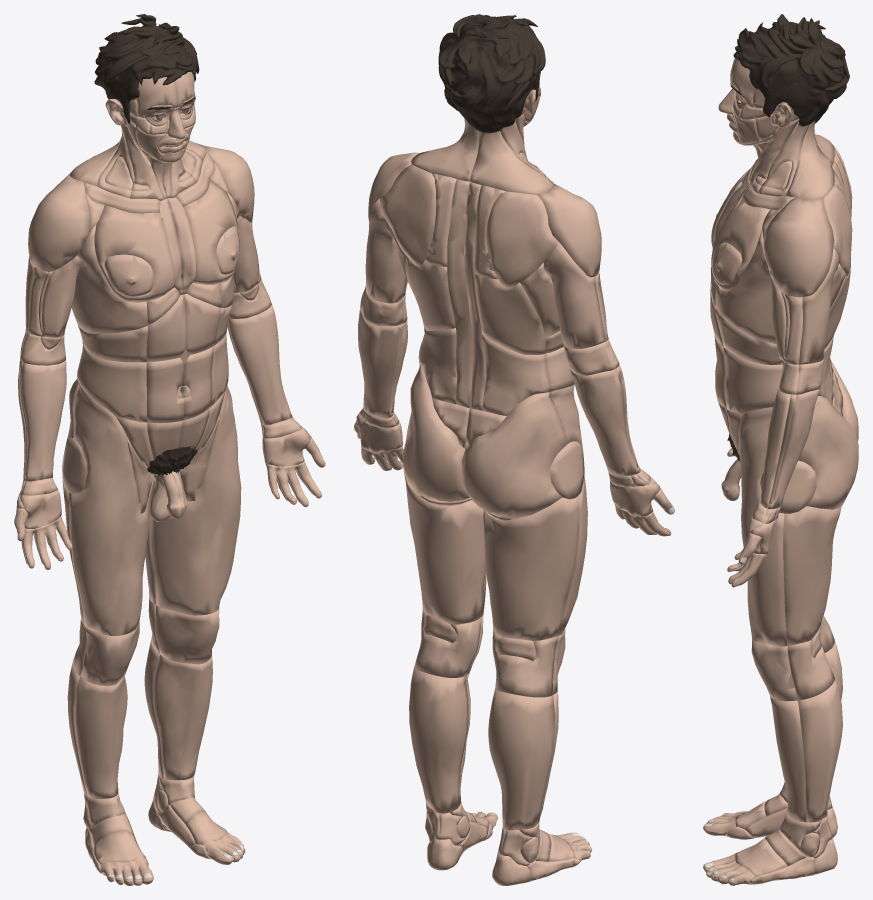
File: adult_male.surface.LOD0.glb
3 views of the same model, side by side, from view 1: azimuth 30°, elevation 25°; view 2: azimuth 150°, elevation 25°; view 3: azimuth 270°, elevation 25° (orthographic). The views are drawn at different scales.
Visible parts, largest first — view 1: ADULT.MALE.SURFACE.ANTERIOR_REGION_OF_THIGH.R, ADULT.MALE.SURFACE.ANTERIOR_REGION_OF_THIGH.L, ADULT.MALE.SURFACE.HAIRS_OF_HEAD, ADULT.MALE.SURFACE.ANTERIOR_REGION_OF_LEG.L, ADULT.MALE.SURFACE.ANTERIOR_REGION_OF_LEG.R, ADULT.MALE.SURFACE.PECTORAL_REGION.R, ADULT.MALE.SURFACE.DELTOID_REGION.R, ADULT.MALE.SURFACE.ANTERIOR_REGION_OF_FOREARM.L, ADULT.MALE.SURFACE.ANTERIOR_REGION_OF_FOREARM.R, ADULT.MALE.SURFACE.LATERAL_REGION_OF_THORAX.R, ADULT.MALE.SURFACE.LATERAL_REGION_OF_ABDOMEN.R, ADULT.MALE.SURFACE.PECTORAL_REGION.L (+46 smaller); view 2: ADULT.MALE.SURFACE.POSTERIOR_REGION_OF_THIGH.R, ADULT.MALE.SURFACE.HAIRS_OF_HEAD, ADULT.MALE.SURFACE.GLUTEAL_REGION.R, ADULT.MALE.SURFACE.POSTERIOR_REGION_OF_THIGH.L, ADULT.MALE.SURFACE.POSTERIOR_REGION_OF_LEG.R, ADULT.MALE.SURFACE.POSTERIOR_REGION_OF_LEG.L, ADULT.MALE.SURFACE.GLUTEAL_REGION.L, ADULT.MALE.SURFACE.SCAPULAR_REGION.R, ADULT.MALE.SURFACE.POSTERIOR_REGION_OF_ARM.R, ADULT.MALE.SURFACE.INFRASCAPULAR_REGION.R, ADULT.MALE.SURFACE.SCAPULAR_REGION.L, ADULT.MALE.SURFACE.POSTERIOR_REGION_OF_FOREARM.R (+32 smaller); view 3: ADULT.MALE.SURFACE.HAIRS_OF_HEAD, ADULT.MALE.SURFACE.ANTERIOR_REGION_OF_THIGH.L, ADULT.MALE.SURFACE.POSTERIOR_REGION_OF_THIGH.L, ADULT.MALE.SURFACE.DELTOID_REGION.L, ADULT.MALE.SURFACE.GLUTEAL_REGION.L, ADULT.MALE.SURFACE.POSTERIOR_REGION_OF_LEG.L, ADULT.MALE.SURFACE.LATERAL_REGION_OF_THORAX.L, ADULT.MALE.SURFACE.ANTERIOR_REGION_OF_LEG.L, ADULT.MALE.SURFACE.LATERAL_REGION_OF_ABDOMEN.L, ADULT.MALE.SURFACE.PECTORAL_REGION.L, ADULT.MALE.SURFACE.POSTERIOR_REGION_OF_ARM.L, ADULT.MALE.SURFACE.POSTERIOR_REGION_OF_NECK.L (+45 smaller).
Part boxes in pixels (box(x1,y1,x2,y2)): ADULT.MALE.SURFACE.ANTERIOR_REGION_OF_THIGH.R: box(69, 382, 154, 635); ADULT.MALE.SURFACE.ANTERIOR_REGION_OF_THIGH.L: box(150, 383, 241, 615); ADULT.MALE.SURFACE.HAIRS_OF_HEAD: box(94, 14, 199, 123); ADULT.MALE.SURFACE.ANTERIOR_REGION_OF_LEG.L: box(153, 654, 212, 780); ADULT.MALE.SURFACE.ANTERIOR_REGION_OF_LEG.R: box(74, 674, 127, 799); ADULT.MALE.SURFACE.PECTORAL_REGION.R: box(94, 205, 174, 302); ADULT.MALE.SURFACE.DELTOID_REGION.R: box(28, 174, 90, 271); ADULT.MALE.SURFACE.ANTERIOR_REGION_OF_FOREARM.L: box(228, 304, 292, 425); ADULT.MALE.SURFACE.ANTERIOR_REGION_OF_FOREARM.R: box(21, 360, 66, 481); ADULT.MALE.SURFACE.LATERAL_REGION_OF_THORAX.R: box(71, 224, 147, 333); ADULT.MALE.SURFACE.LATERAL_REGION_OF_ABDOMEN.R: box(77, 342, 147, 422); ADULT.MALE.SURFACE.PECTORAL_REGION.L: box(183, 179, 239, 284); ADULT.MALE.SURFACE.POSTERIOR_REGION_OF_THIGH.R: box(483, 496, 579, 640); ADULT.MALE.SURFACE.HAIRS_OF_HEAD: box(438, 14, 545, 133); ADULT.MALE.SURFACE.GLUTEAL_REGION.R: box(462, 392, 567, 519); ADULT.MALE.SURFACE.POSTERIOR_REGION_OF_THIGH.L: box(403, 471, 485, 624); ADULT.MALE.SURFACE.POSTERIOR_REGION_OF_LEG.R: box(488, 688, 555, 830); ADULT.MALE.SURFACE.POSTERIOR_REGION_OF_LEG.L: box(409, 667, 468, 813); ADULT.MALE.SURFACE.GLUTEAL_REGION.L: box(403, 362, 469, 501); ADULT.MALE.SURFACE.SCAPULAR_REGION.R: box(486, 191, 559, 287); ADULT.MALE.SURFACE.POSTERIOR_REGION_OF_ARM.R: box(543, 242, 606, 348); ADULT.MALE.SURFACE.INFRASCAPULAR_REGION.R: box(475, 274, 545, 354); ADULT.MALE.SURFACE.SCAPULAR_REGION.L: box(379, 164, 436, 266); ADULT.MALE.SURFACE.POSTERIOR_REGION_OF_FOREARM.R: box(570, 368, 640, 476); ADULT.MALE.SURFACE.HAIRS_OF_HEAD: box(733, 14, 849, 126); ADULT.MALE.SURFACE.ANTERIOR_REGION_OF_THIGH.L: box(738, 407, 787, 646); ADULT.MALE.SURFACE.POSTERIOR_REGION_OF_THIGH.L: box(783, 506, 841, 645); ADULT.MALE.SURFACE.DELTOID_REGION.L: box(763, 197, 834, 297); ADULT.MALE.SURFACE.GLUTEAL_REGION.L: box(798, 396, 858, 509); ADULT.MALE.SURFACE.POSTERIOR_REGION_OF_LEG.L: box(798, 679, 842, 822); ADULT.MALE.SURFACE.LATERAL_REGION_OF_THORAX.L: box(715, 230, 846, 344); ADULT.MALE.SURFACE.ANTERIOR_REGION_OF_LEG.L: box(770, 696, 806, 822); ADULT.MALE.SURFACE.LATERAL_REGION_OF_ABDOMEN.L: box(723, 347, 782, 414); ADULT.MALE.SURFACE.PECTORAL_REGION.L: box(711, 197, 769, 291); ADULT.MALE.SURFACE.POSTERIOR_REGION_OF_ARM.L: box(799, 248, 839, 364); ADULT.MALE.SURFACE.POSTERIOR_REGION_OF_NECK.L: box(784, 120, 834, 199).
Size of the model in its own units: 0.6801 by 1.74 by 0.2941.
